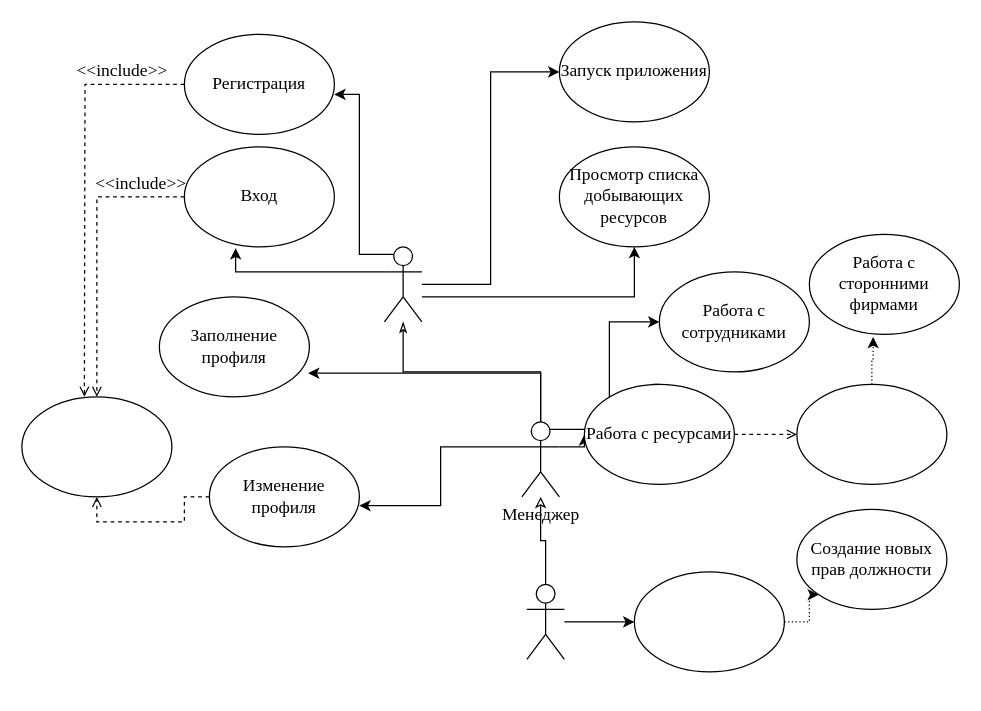
This 981x711 diagram has some shape labels left out. Each missing label, with the centre of its shape:
"Администратор" belongs at (x=545, y=621).
"Подтверждение кода" belongs at (x=96, y=446).
"Пользователь" belongs at (x=402, y=284).
"Работа с правами Аутефицированных пользователями" belongs at (x=708, y=621).
"Работа с точками добычи" belongs at (x=871, y=433).
